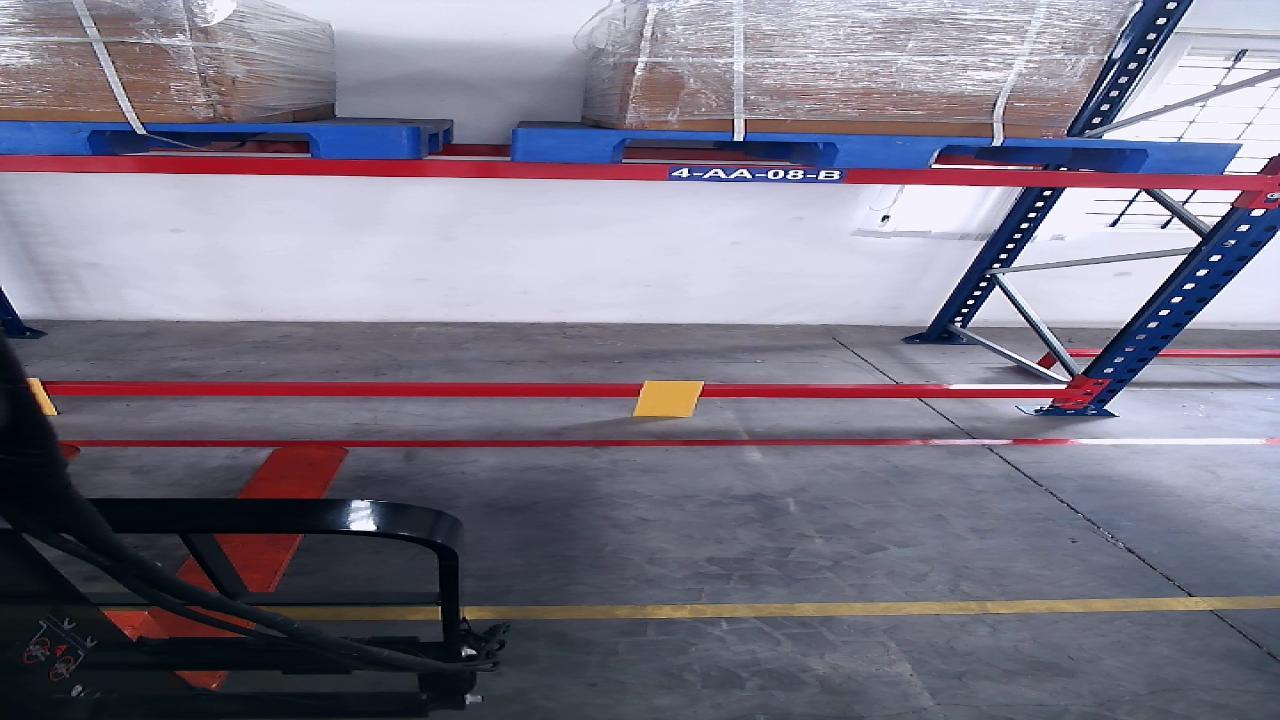h_rack: (0, 155, 1272, 192), (46, 385, 1068, 397)
orange_strip: (631, 379, 707, 417)
red_line: (66, 438, 1275, 446)
small_pallet: (511, 128, 1245, 175), (0, 121, 416, 158)
yellow_line: (272, 597, 1277, 619)
